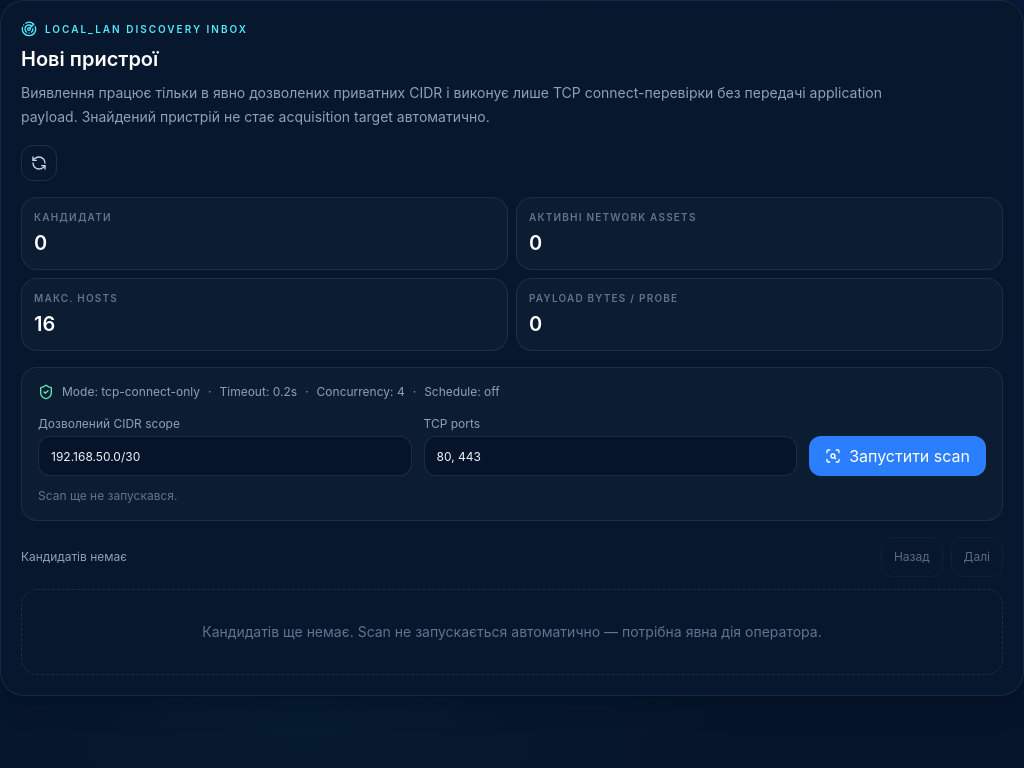
Test: EquipmentDiscoveryInbox scan reconciliation › retains a successfully launched scan when the immediate overview refresh fails
Click the button "Запустити scan" at (898, 456), box [809,436,986,476]
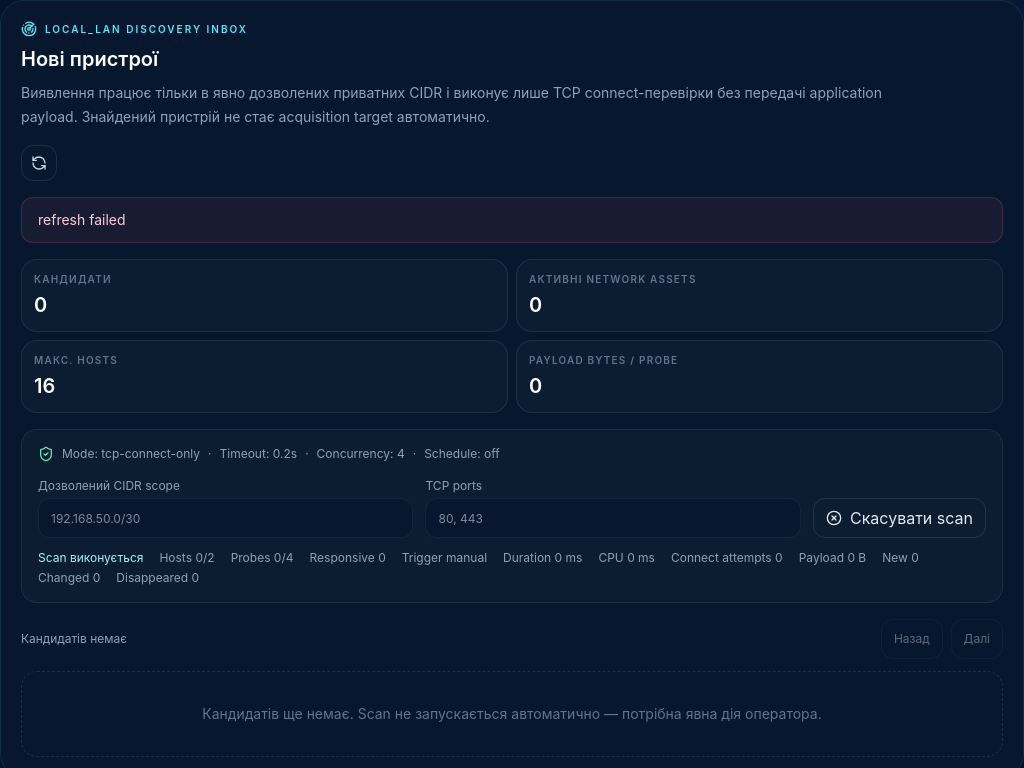
Expected: the button "Скасувати scan" is enabled, [813,498,986,538]
Result: the text "Scan виконується" is shown at [38,550,143,566]
Result: the text "refresh failed" is shown at [21,197,1003,243]
